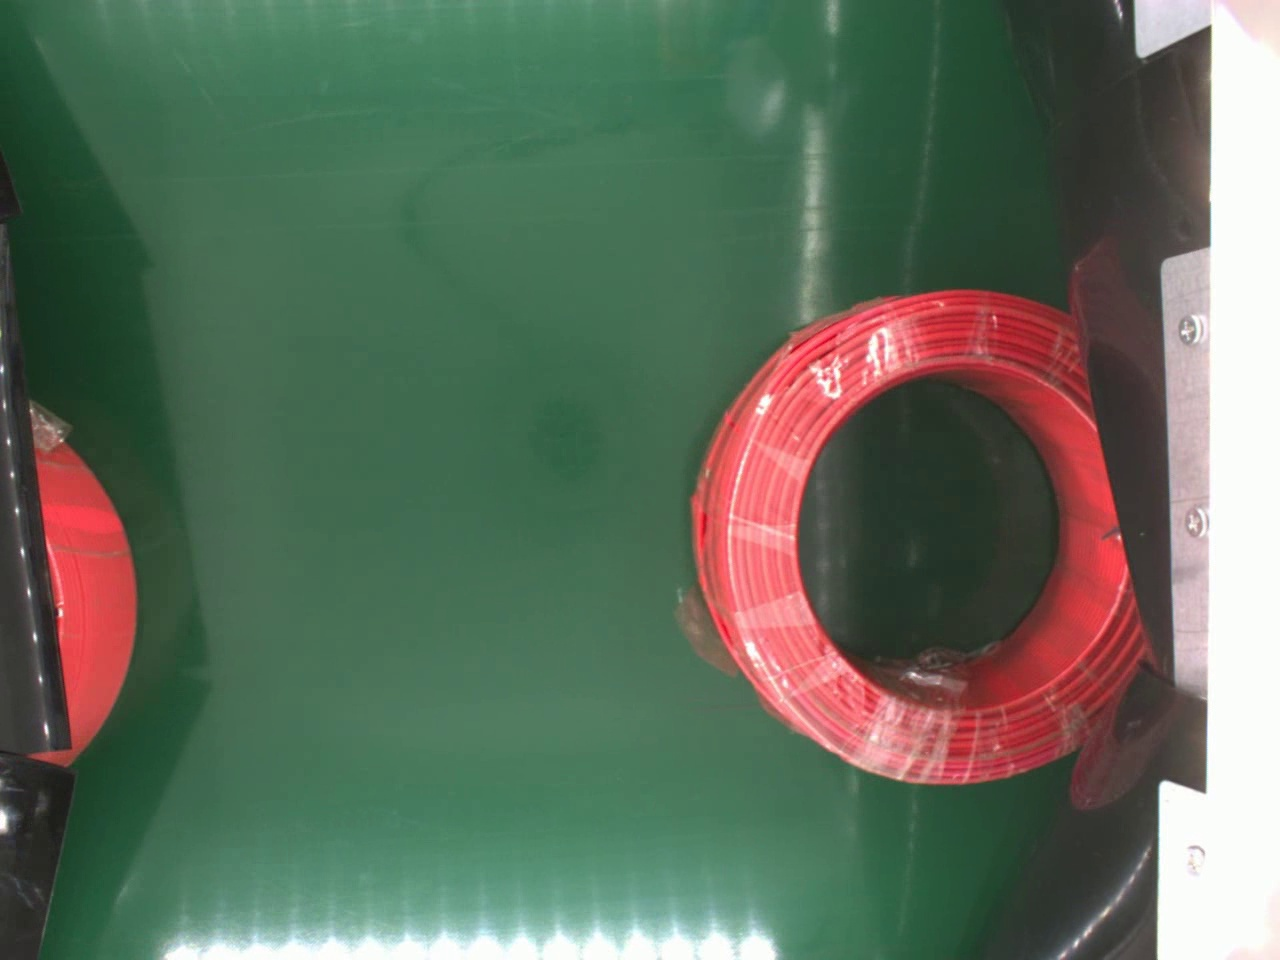red: (689, 284, 1143, 785)
